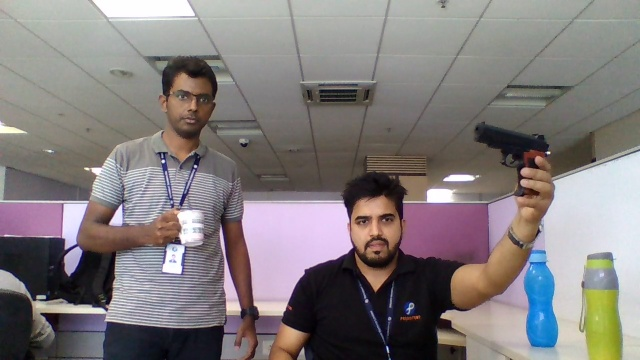gun: (474, 121, 549, 156)
